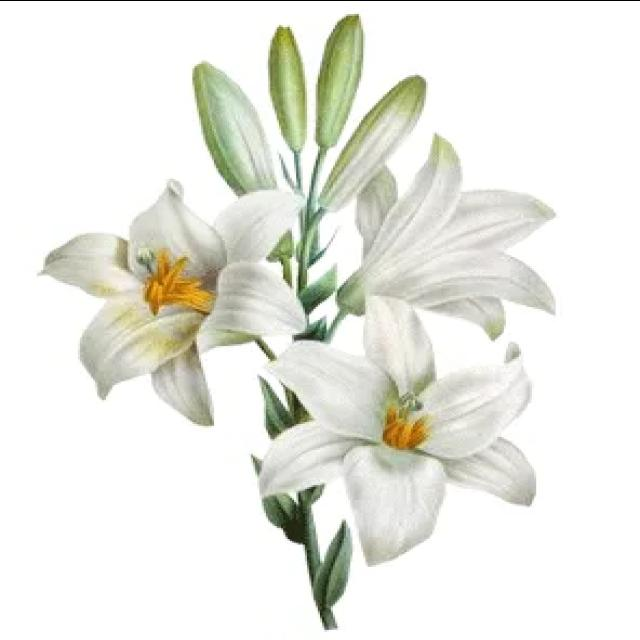lily: (251, 294, 555, 566)
